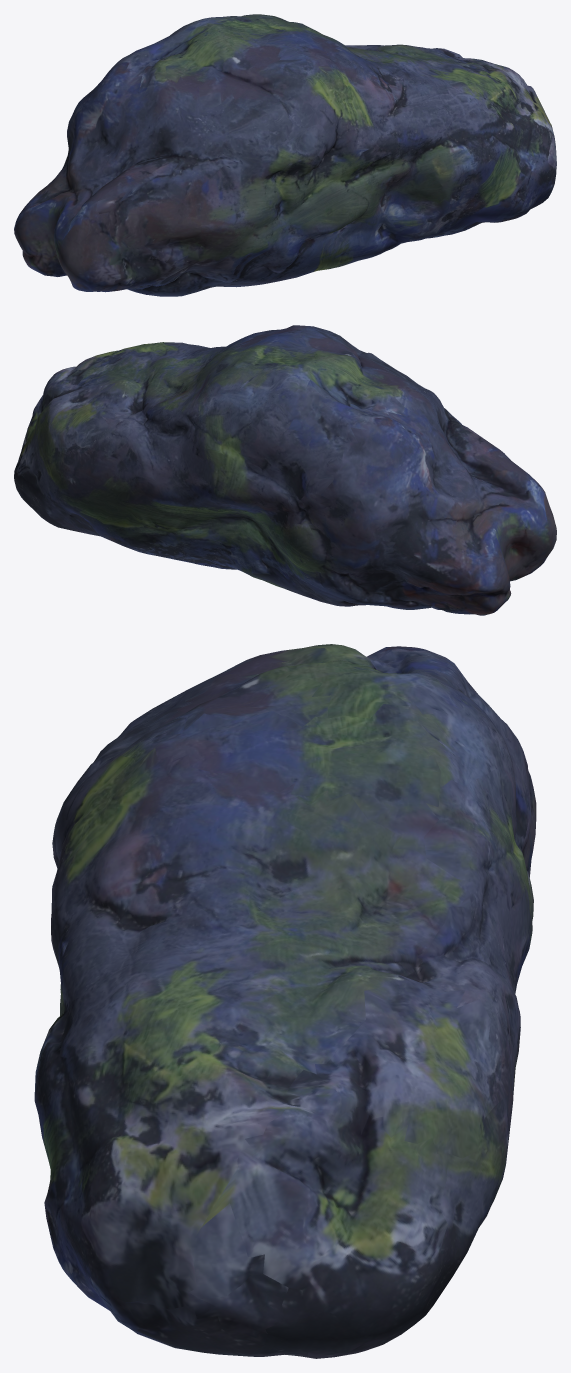
The model's file is Aaron_Car.glb.
3 views of the same model, one above another, from view 1: azimuth 30°, elevation 25°; view 2: azimuth 150°, elevation 25°; view 3: azimuth 270°, elevation 25° (orthographic). The views are drawn at different scales.
Visible parts, largest first — view 1: Aaron_Car; view 2: Aaron_Car; view 3: Aaron_Car.
Boxes of the visible parts, x1=… form: Aaron_Car: x1=14, y1=14, x2=556, y2=296; Aaron_Car: x1=14, y1=325, x2=556, y2=615; Aaron_Car: x1=34, y1=644, x2=536, y2=1358.
Size of the model in its own units: 1.69 by 0.7533 by 0.7443.
1 material, 1 textured.
